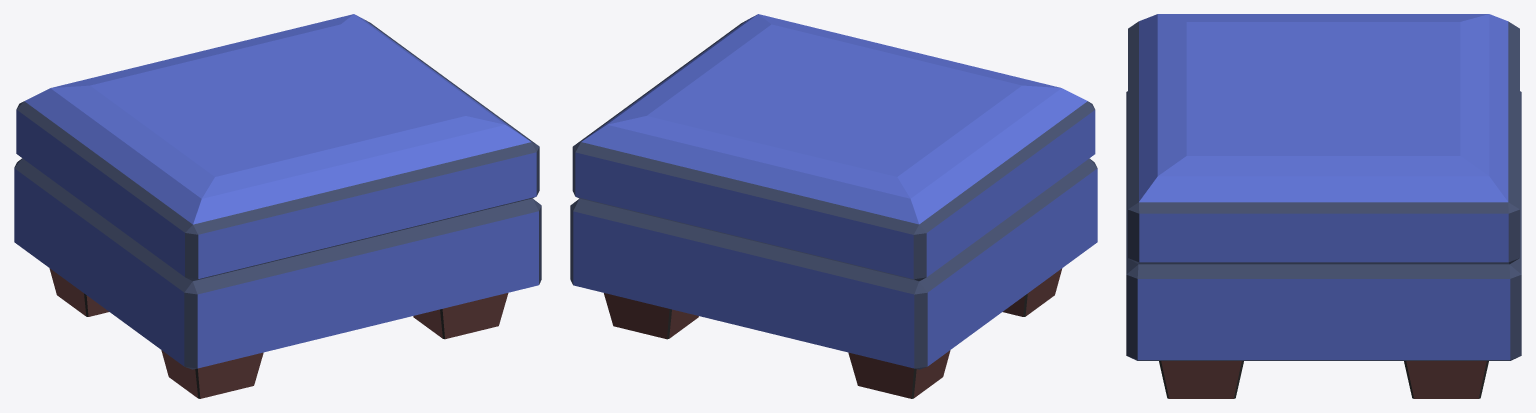
File: Couch_Ottoman.fbx
3 renders of one model, left to right at view 1: azimuth 30°, elevation 25°; view 2: azimuth 150°, elevation 25°; view 3: azimuth 270°, elevation 25°, orthographic. The views are drawn at different scales.
Visible parts, largest first — view 1: Ottoman; view 2: Ottoman; view 3: Ottoman.
Part boxes in pixels (x1,y1,x2,y2): Ottoman: (14,14,541,398); Ottoman: (570,14,1097,398); Ottoman: (1126,14,1521,398).
Size of the model in its own units: 55.43 by 31.07 by 48.5.
